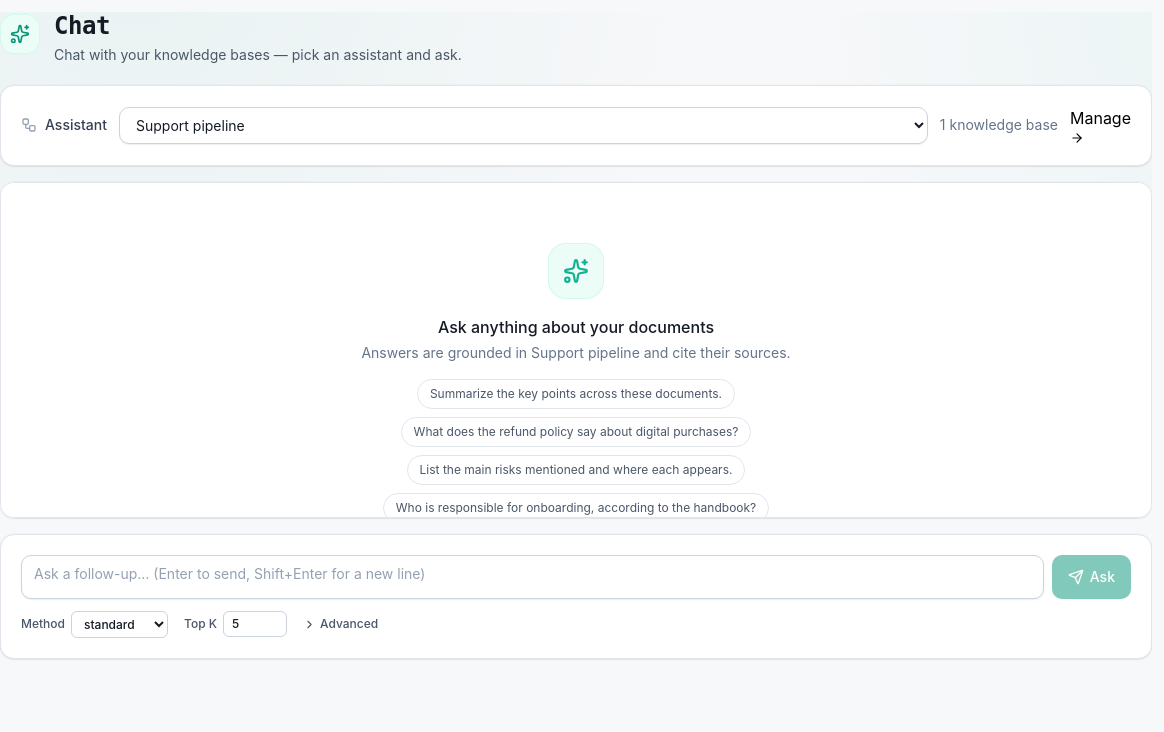
AskPage › asks a question, shows it pending, then renders the answer
Expected: the text "Ask anything about your documents" is shown, [438,317,714,337]
Type "What is the refund policy?" into the text box named "Your question". click: (532, 577)
box: [21,555,1044,599]
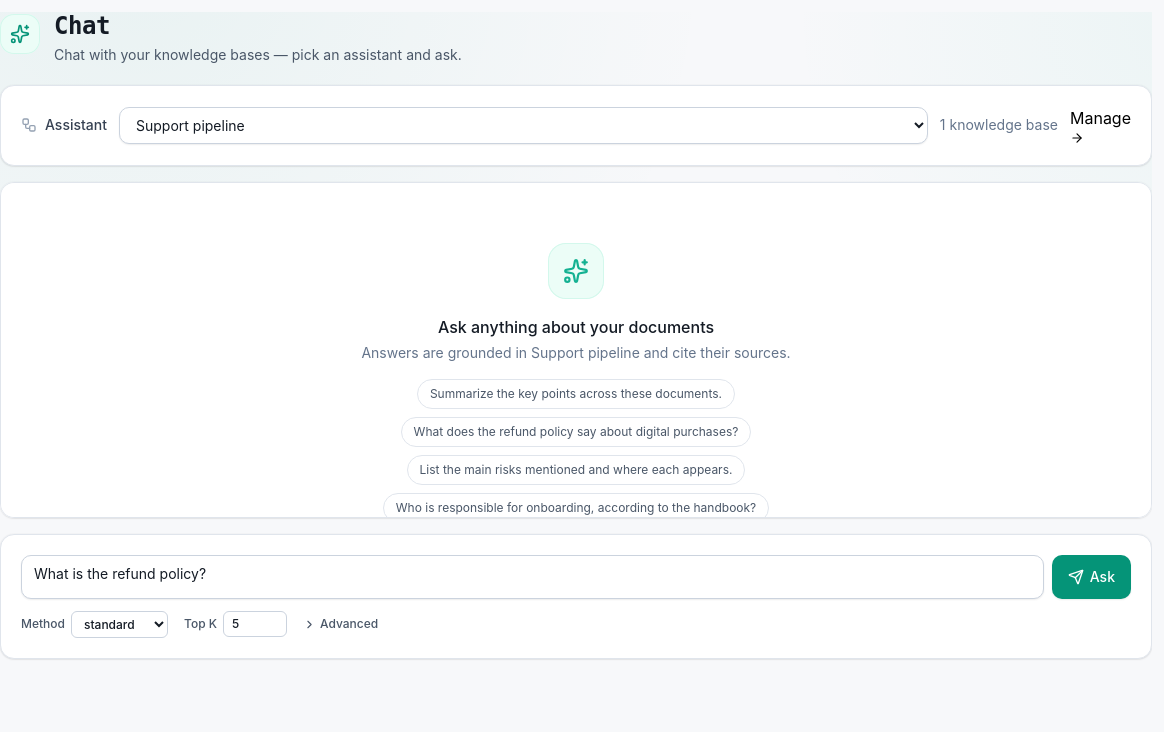
Click the button "Ask". click: (1091, 577)
box: [1052,555,1131,599]
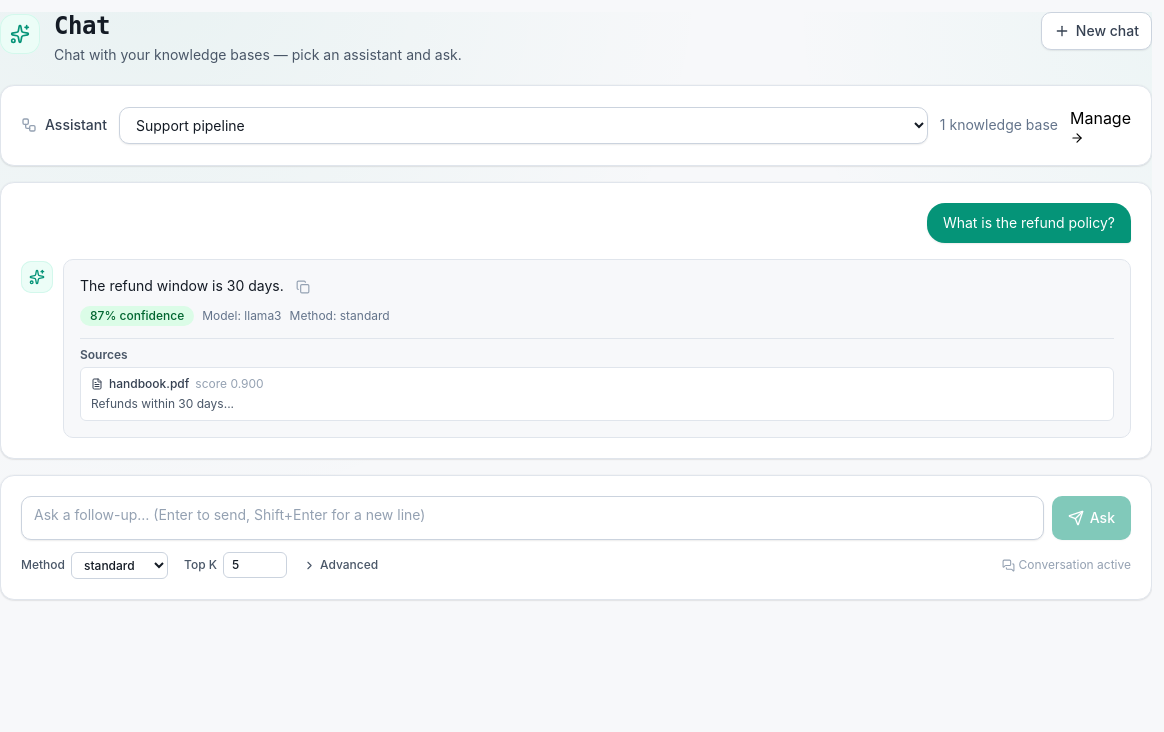
Now the text "What is the refund policy?" is shown, box [927,203,1131,243]
Now the text "The refund window is 30 days." is shown, box [80,276,284,296]
